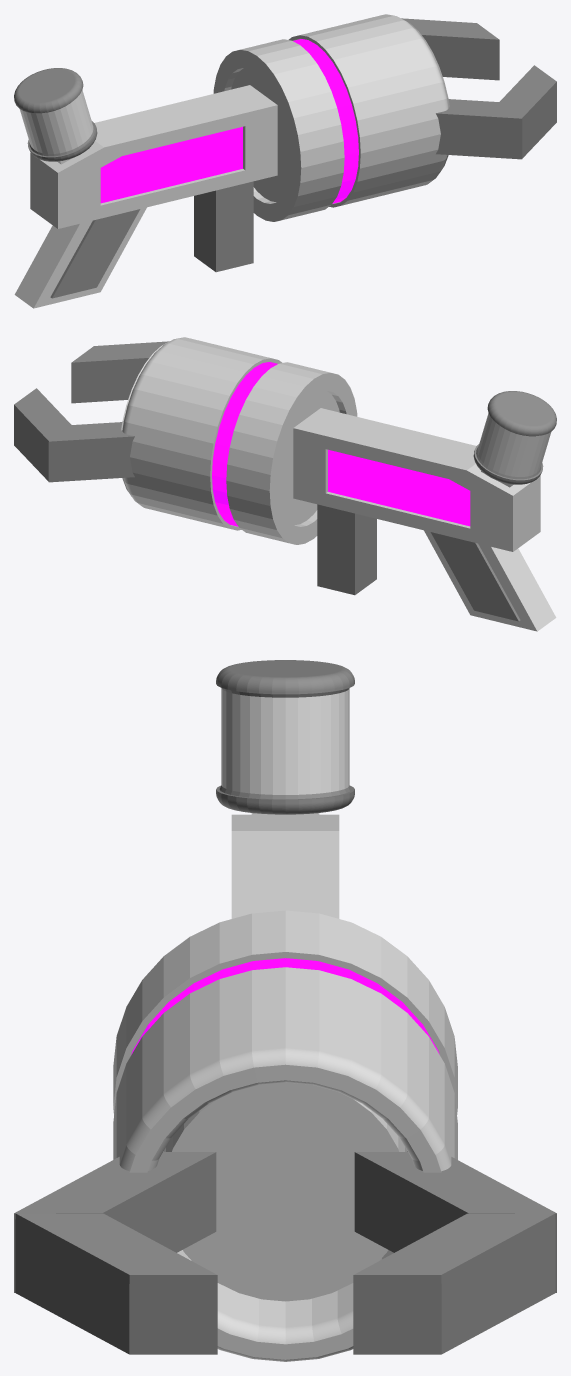
The model's file is laser_mining_tool.glb.
The picture shows the model from 3 angles, top to bottom: view 1: azimuth 30°, elevation 25°; view 2: azimuth 150°, elevation 25°; view 3: azimuth 270°, elevation 25°; orthographic projection. The views are drawn at different scales.
Parts seen in each view (by area): view 1: Cylinder.002, Cylinder.001, Cube.005, Cube.006, Cube.002, Cylinder.004, Cylinder, Cylinder.003; view 2: Cylinder.002, Cylinder.001, Cube.005, Cube.006, Cube.002, Cylinder.004, Cylinder, Cylinder.003; view 3: Cylinder.002, Cube.005, Cylinder.001, Cylinder, Cylinder.004, Cylinder.003, Cube.003.
Part boxes in pixels (box(x1,y1,x2,y2)): Cylinder.002: box(213, 14, 449, 221); Cylinder.001: box(14, 68, 291, 308); Cube.005: box(401, 18, 556, 159); Cube.006: box(50, 181, 253, 298); Cube.002: box(100, 126, 242, 203); Cylinder.004: box(14, 68, 97, 161); Cylinder: box(19, 90, 93, 153); Cylinder.003: box(293, 39, 358, 203); Cylinder.002: box(121, 337, 357, 544); Cylinder.001: box(279, 391, 556, 631); Cube.005: box(14, 341, 169, 482); Cube.006: box(317, 504, 520, 621); Cube.002: box(328, 449, 470, 526); Cylinder.004: box(473, 391, 556, 484); Cylinder: box(477, 413, 551, 476); Cylinder.003: box(212, 362, 277, 526); Cylinder.002: box(113, 910, 457, 1361); Cube.005: box(14, 1152, 556, 1354); Cylinder.001: box(163, 814, 407, 1301); Cylinder: box(221, 688, 349, 794); Cylinder.004: box(216, 660, 354, 814); Cylinder.003: box(131, 958, 439, 1054); Cube.003: box(251, 813, 319, 827).
Size of the model in its own units: 10.27 by 4.42 by 4.96.
